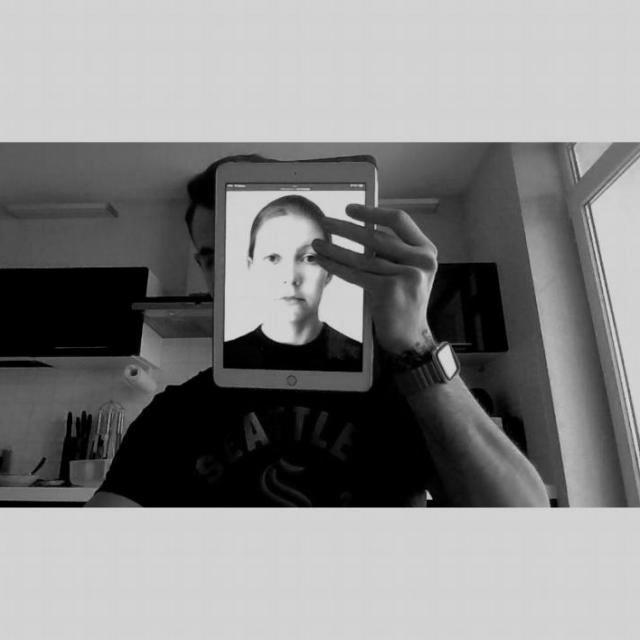fake: (212, 158, 380, 399)
